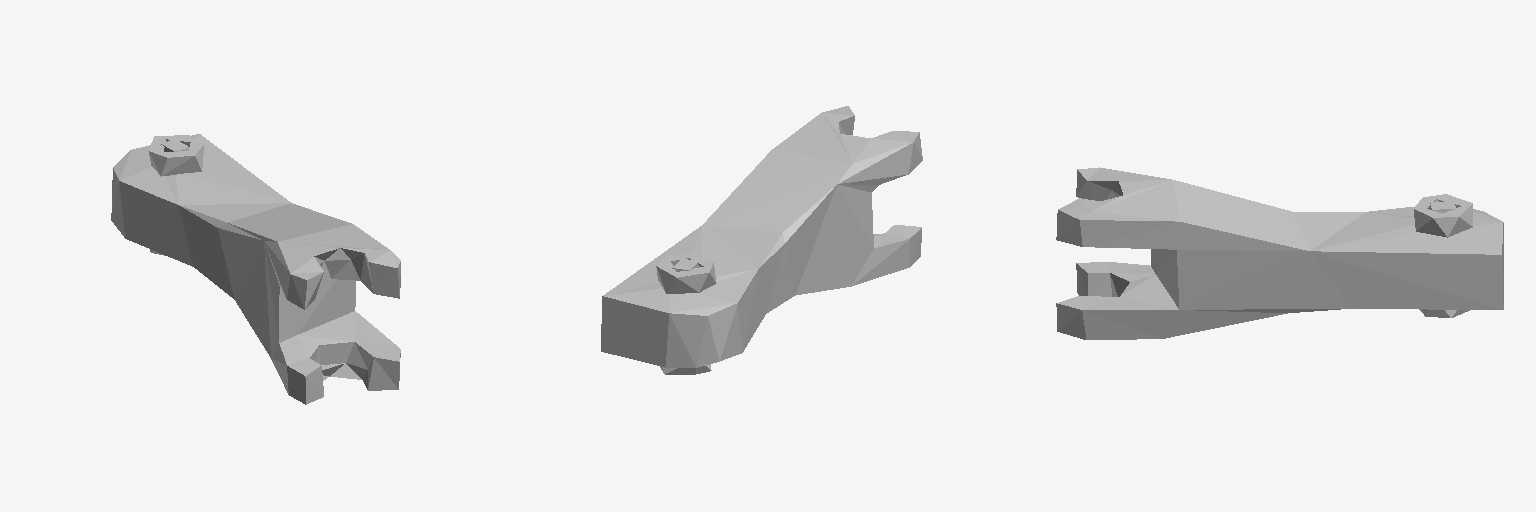
The model's file is right_collision_ring_pp_mesh_mesh.obj.
3 renders of one model, left to right at view 1: azimuth 30°, elevation 25°; view 2: azimuth 150°, elevation 25°; view 3: azimuth 270°, elevation 25°, orthographic.
Size of the model in its own units: 0.0172 by 0.0191 by 0.0598.